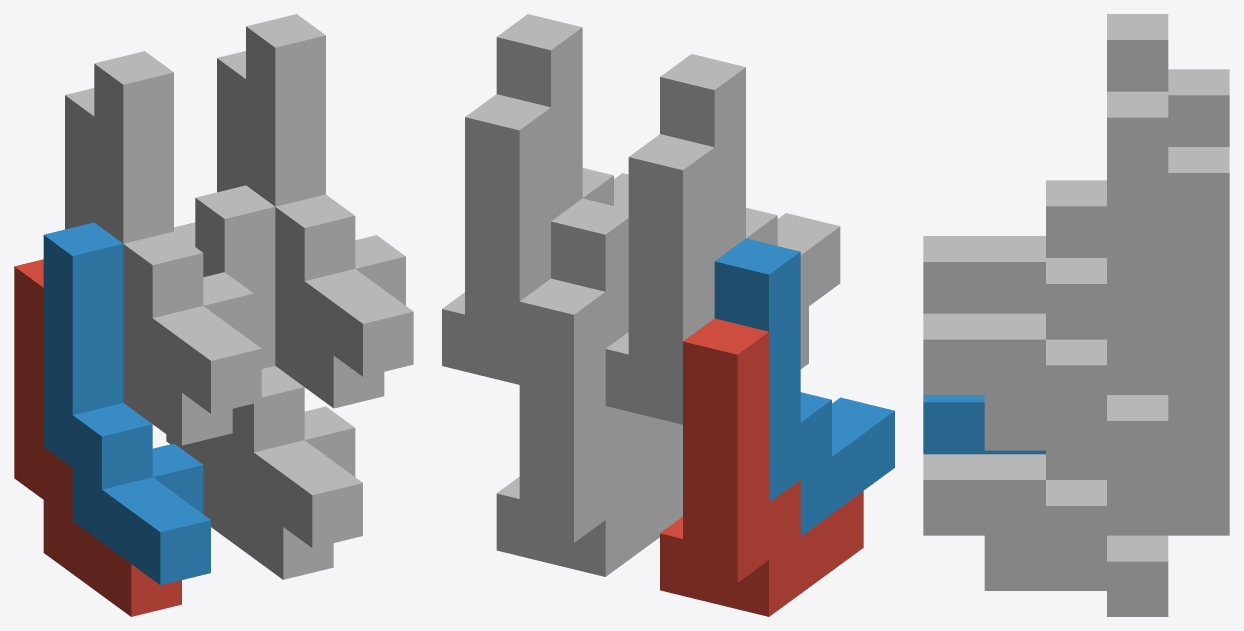
File: tiling.obj
3 views of the same model, side by side, from view 1: azimuth 30°, elevation 25°; view 2: azimuth 150°, elevation 25°; view 3: azimuth 270°, elevation 25° (orthographic). The views are drawn at different scales.
Parts seen in each view (by area): view 1: copy_1_domain_2, copy_1_domain_4, copy_1_domain_8, copy_1_domain_6, copy_1_domain_1, copy_1_domain_3, copy_1_domain_7, copy_1_domain_5; view 2: copy_1_domain_1, copy_1_domain_5, copy_1_domain_3, copy_1_domain_7, copy_1_domain_2, copy_1_domain_4, copy_1_domain_8, copy_1_domain_6; view 3: copy_1_domain_8, copy_1_domain_7, copy_1_domain_5, copy_1_domain_4, copy_1_domain_6, copy_1_domain_3, copy_1_domain_2.
Part boxes in pixels (x1,y1,x2,y2): copy_1_domain_2: [43, 222, 210, 585]; copy_1_domain_4: [94, 51, 261, 413]; copy_1_domain_8: [246, 14, 413, 376]; copy_1_domain_6: [195, 185, 362, 548]; copy_1_domain_1: [14, 259, 181, 616]; copy_1_domain_3: [65, 88, 232, 445]; copy_1_domain_7: [217, 51, 384, 408]; copy_1_domain_5: [166, 222, 333, 579]; copy_1_domain_1: [660, 318, 863, 616]; copy_1_domain_5: [496, 278, 682, 576]; copy_1_domain_3: [605, 134, 808, 424]; copy_1_domain_7: [442, 94, 550, 384]; copy_1_domain_2: [714, 238, 894, 536]; copy_1_domain_4: [660, 54, 840, 311]; copy_1_domain_8: [496, 14, 628, 220]; copy_1_domain_6: [551, 198, 682, 496]; copy_1_domain_8: [923, 91, 1168, 420]; copy_1_domain_7: [984, 147, 1229, 476]; copy_1_domain_5: [984, 395, 1229, 616]; copy_1_domain_4: [923, 14, 1168, 313]; copy_1_domain_6: [923, 450, 1168, 561]; copy_1_domain_3: [1168, 69, 1229, 146]; copy_1_domain_2: [923, 395, 1045, 454].
Bounding box in the file's own units: 6 × 9 × 5.
